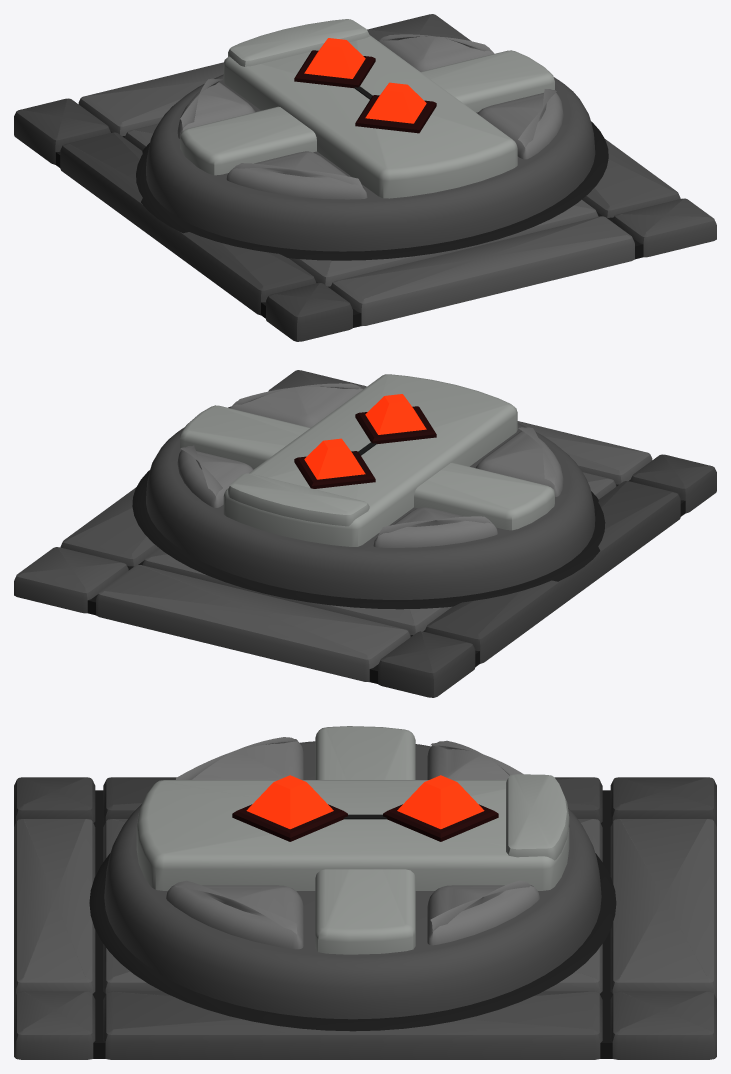
File: panel_gems.glb
3 renders of one model, top to bottom at view 1: azimuth 30°, elevation 25°; view 2: azimuth 150°, elevation 25°; view 3: azimuth 270°, elevation 25°, orthographic. The views are drawn at different scales.
Visible parts, largest first — view 1: disc, upright, stone10, stone01, arm, crevice, stone12, cushion-1-1, stone20, stone00, stone21, stone02 (+11 smaller); view 2: disc, upright, stone12, stone01, arm, crevice, stone22, stone02, cap, stone21, stone11, cushion-11 (+11 smaller); view 3: disc, upright, stone21, stone12, stone10, arm, crevice, stone22, cushion1-1, stone20, cushion11, cap (+11 smaller).
Boxes of the visible parts, x1,y1,x2,y2 form: disc: [146, 74, 595, 251]; upright: [223, 35, 517, 198]; stone10: [330, 216, 634, 325]; stone01: [60, 132, 316, 315]; arm: [180, 50, 554, 175]; crevice: [136, 121, 608, 260]; stone12: [78, 62, 223, 136]; cushion-1-1: [226, 151, 367, 199]; stone20: [612, 198, 716, 257]; stone00: [266, 283, 352, 341]; stone21: [582, 139, 680, 217]; stone02: [14, 98, 110, 164]; disc: [146, 406, 595, 599]; upright: [223, 374, 517, 546]; stone12: [96, 565, 410, 681]; stone01: [424, 481, 680, 663]; arm: [180, 405, 554, 530]; crevice: [132, 470, 605, 609]; stone22: [14, 547, 128, 613]; stone02: [378, 631, 475, 697]; cap: [228, 473, 369, 526]; stone21: [60, 487, 158, 566]; stone11: [142, 472, 616, 635]; cushion-11: [373, 507, 497, 547]; disc: [104, 741, 601, 1019]; upright: [136, 780, 569, 890]; stone21: [103, 991, 602, 1059]; stone12: [610, 819, 716, 998]; stone10: [14, 819, 95, 998]; arm: [315, 726, 415, 954]; crevice: [89, 853, 616, 1031]; stone22: [610, 991, 716, 1059]; cushion1-1: [166, 880, 303, 949]; stone20: [14, 991, 95, 1059]; cushion11: [427, 880, 539, 945]; cap: [506, 774, 569, 860].
Size of the model in its own units: 24.17 by 6.61 by 28.
